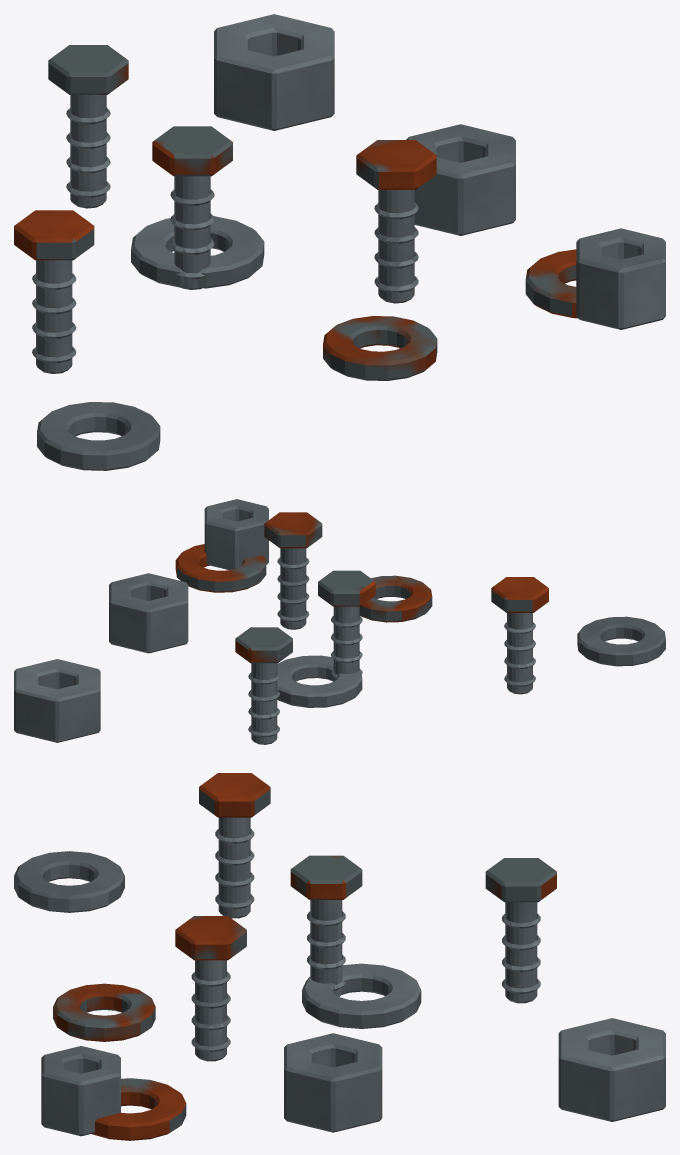
The model's file is hardware-17.glb.
The picture shows the model from 3 angles, top to bottom: view 1: azimuth 30°, elevation 25°; view 2: azimuth 150°, elevation 25°; view 3: azimuth 270°, elevation 25°; orthographic projection. The views are drawn at different scales.
Visible parts, largest first — view 1: hardware-17; view 2: hardware-17; view 3: hardware-17.
Part boxes in pixels (<box>): hardware-17: <box>14,14,665,470</box>; hardware-17: <box>14,499,665,744</box>; hardware-17: <box>14,773,665,1140</box>.
Size of the model in its own units: 0.5413 by 0.117 by 0.5427.
2 materials, 2 textured.
